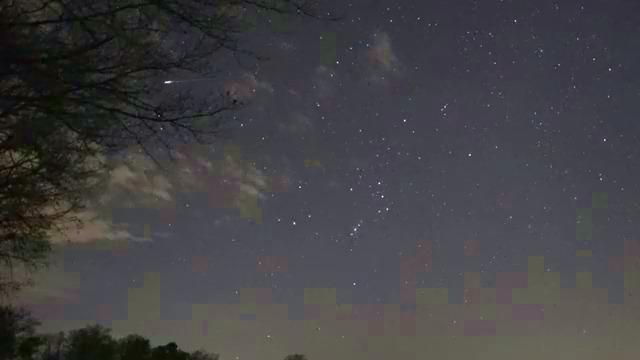meteorite: (157, 74, 241, 92)
